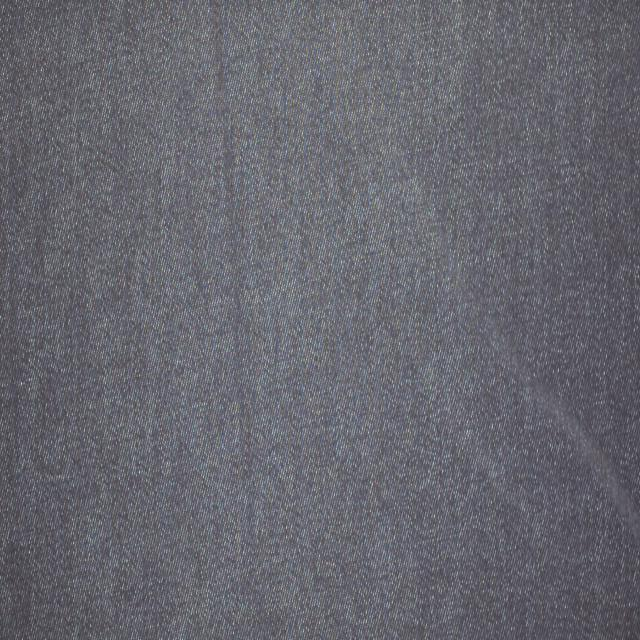Line: (206, 0, 261, 536)
